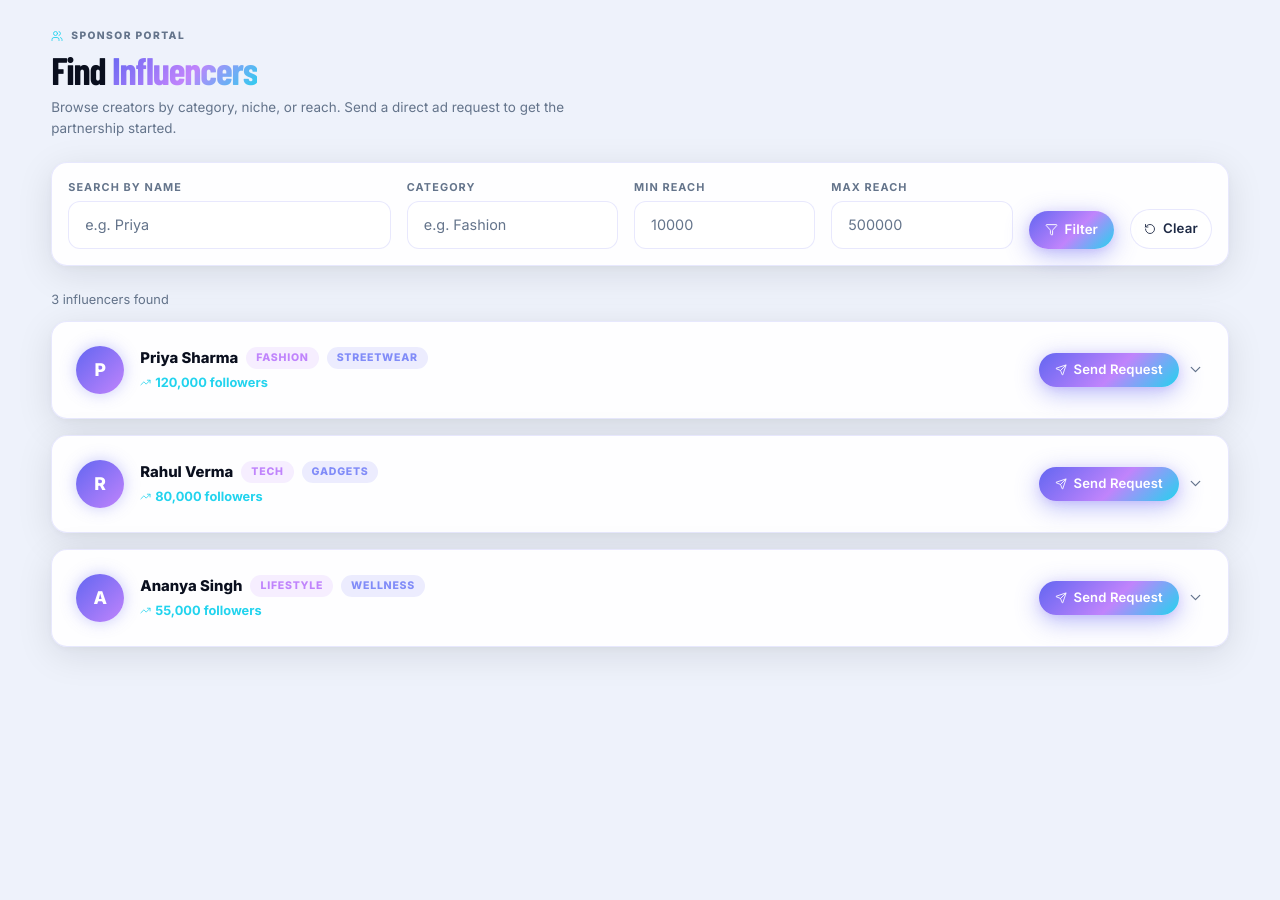
Test: InfluencerDirectory › shows request form when Send Request button clicked
The width and height of the screenshot is (1280, 900).
Expected: the text "Priya Sharma" is shown, [140, 347, 238, 369]
# Click the header Send Request button (not the expand toggle)
Step 1. Click the button "Send Request" in the row of "Streetwear" → x=1109, y=370, box [1038, 353, 1179, 387]
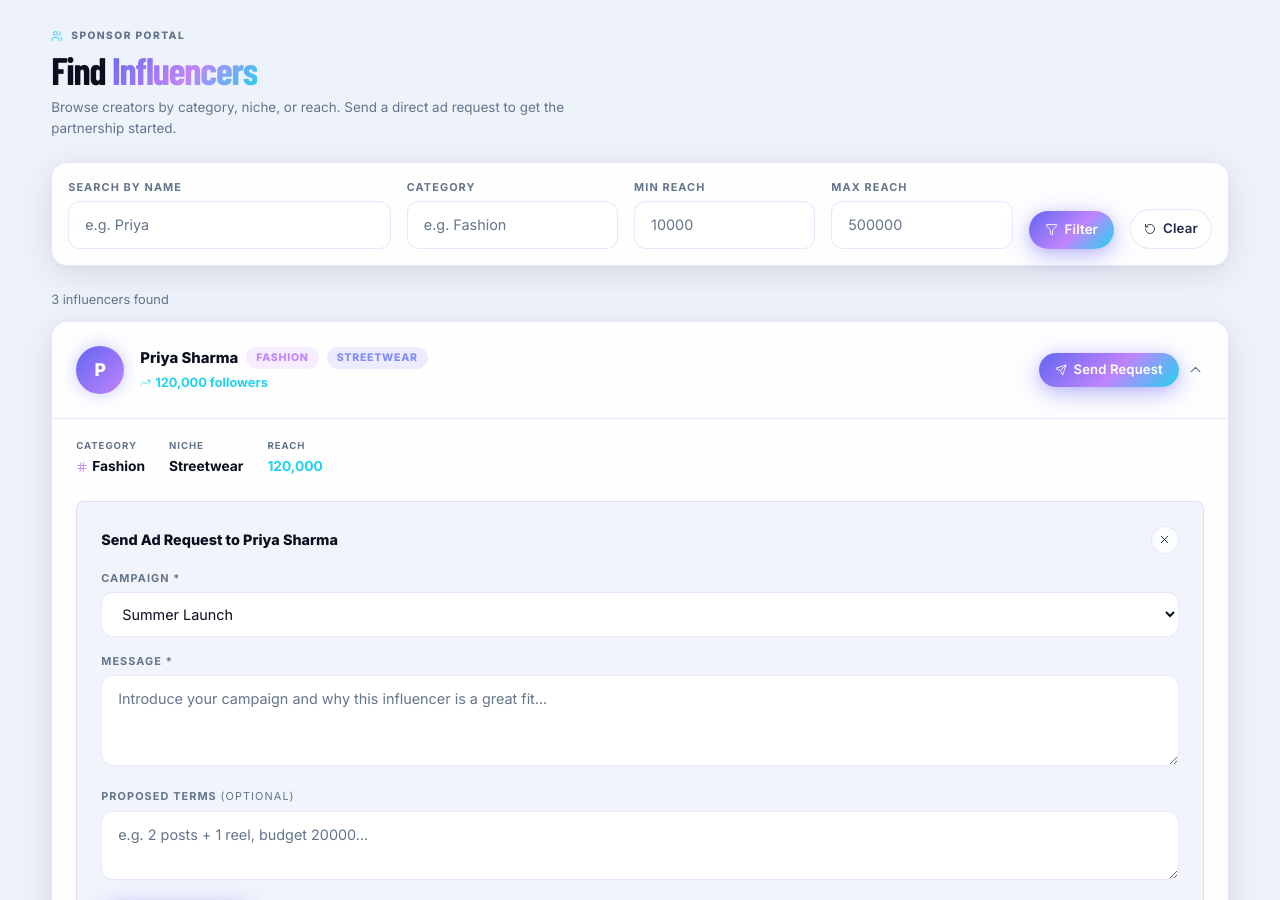
Expected: the text box with placeholder "Introduce your campaign" is shown, [101, 676, 1179, 766]
